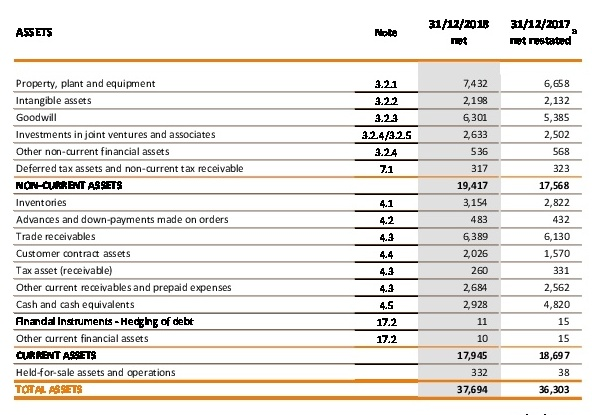table: (0, 0, 592, 415)
